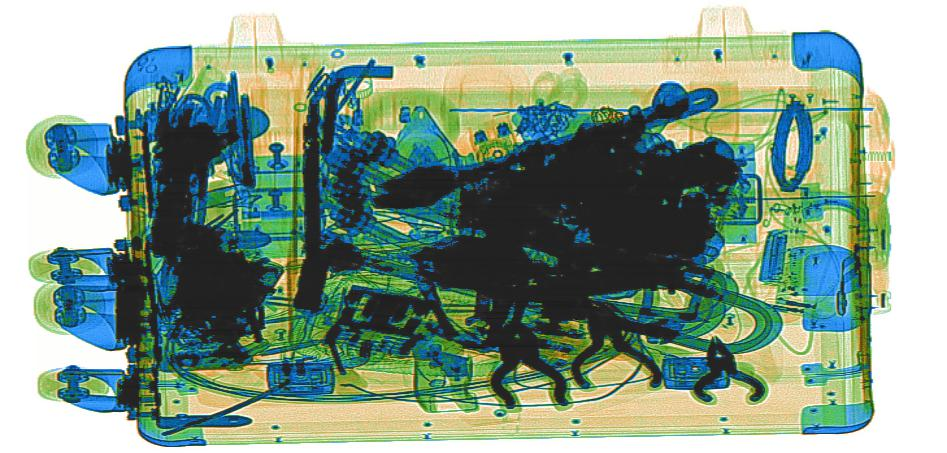battery: (760, 229, 789, 285)
